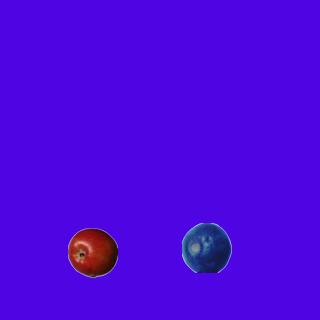Apple Braeburn: (67, 227, 117, 277)
Huckleberry: (181, 222, 231, 272)
